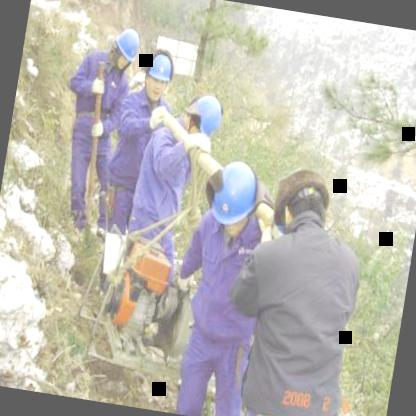helmet: (270, 164, 338, 238), (206, 154, 263, 240), (184, 90, 226, 143), (140, 48, 178, 104), (108, 26, 142, 75)
